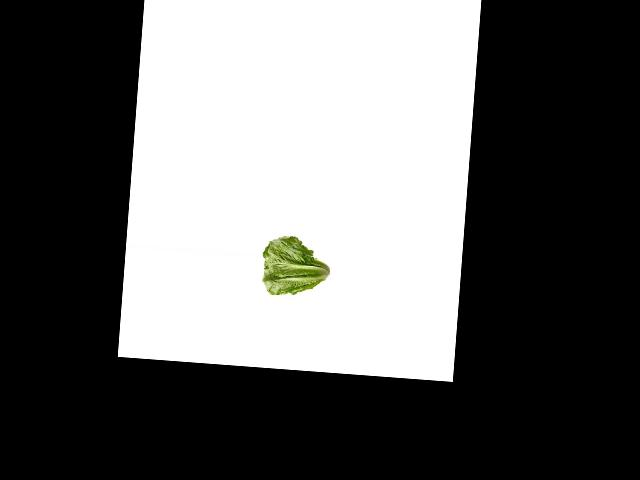lettuce: (258, 231, 335, 296)
